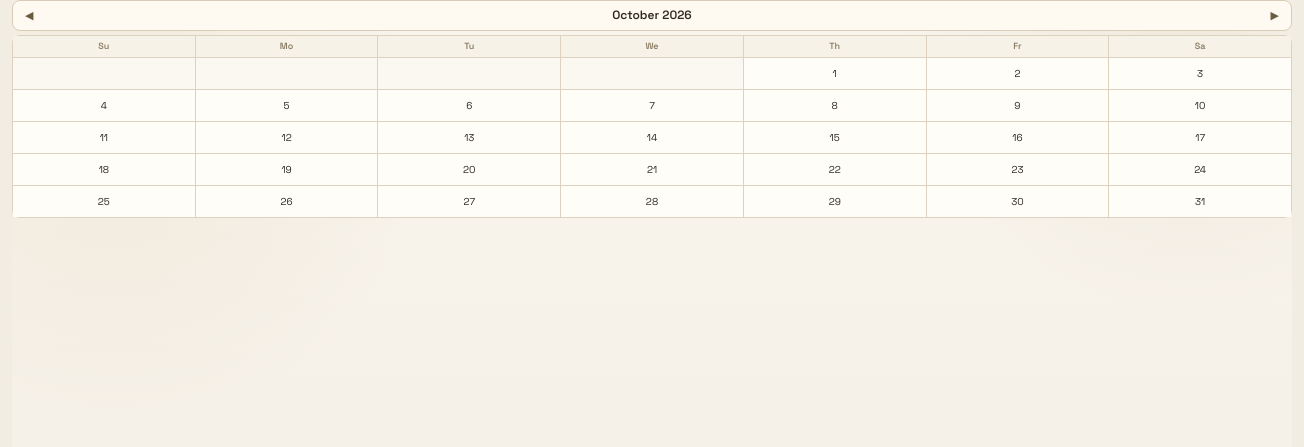
Test: Calendar › deletes the appointment being edited
Step 1. Click the button "15" → (835, 138), box top-left (744, 122), bottom-right (926, 153)
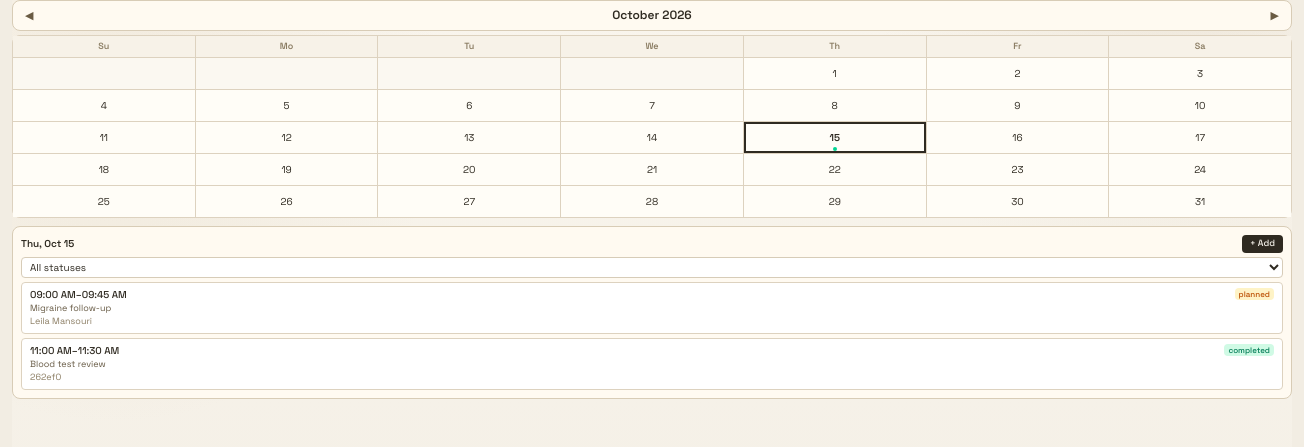
Step 2. Click the text "Migraine follow-up" → (71, 308), box top-left (30, 302), bottom-right (111, 314)
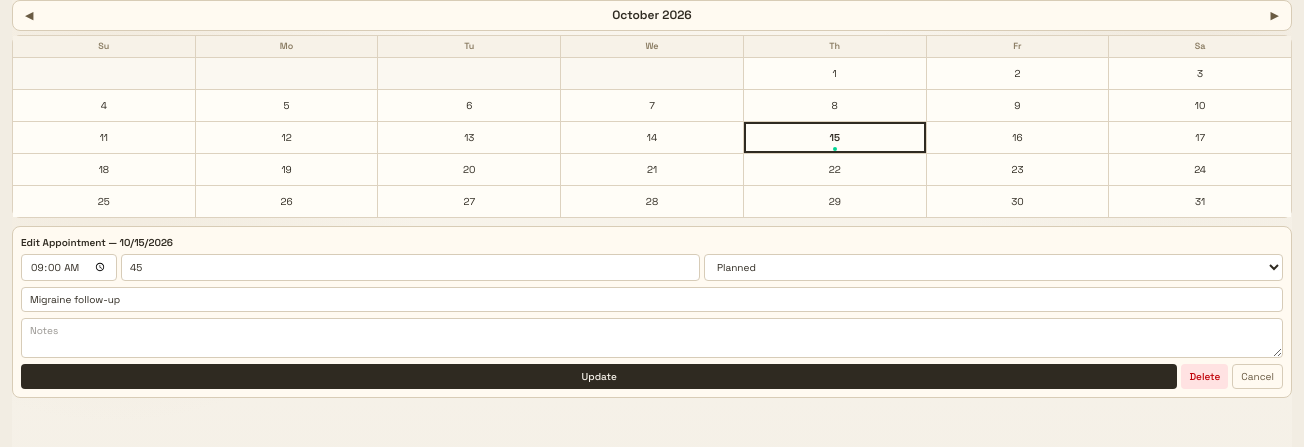
Step 3. Click the button "Delete" → (1205, 376), box top-left (1181, 364), bottom-right (1228, 388)
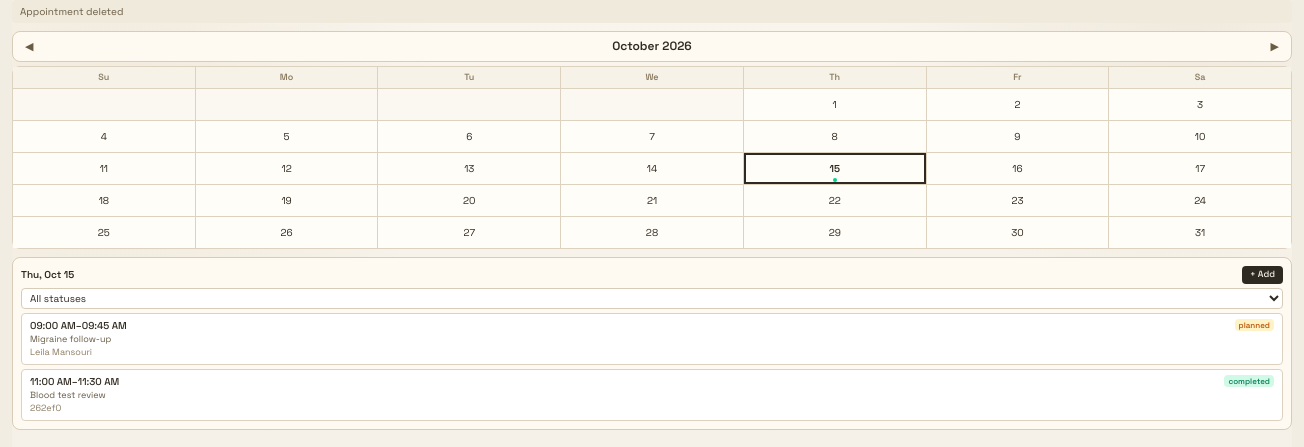
Now the text "Appointment deleted" is shown, box top-left (12, 0), bottom-right (1292, 23)
